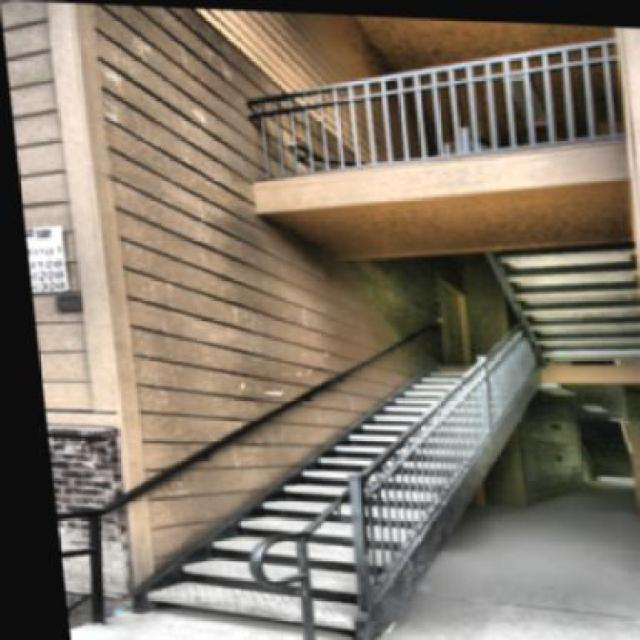stair: (91, 383, 555, 639)
